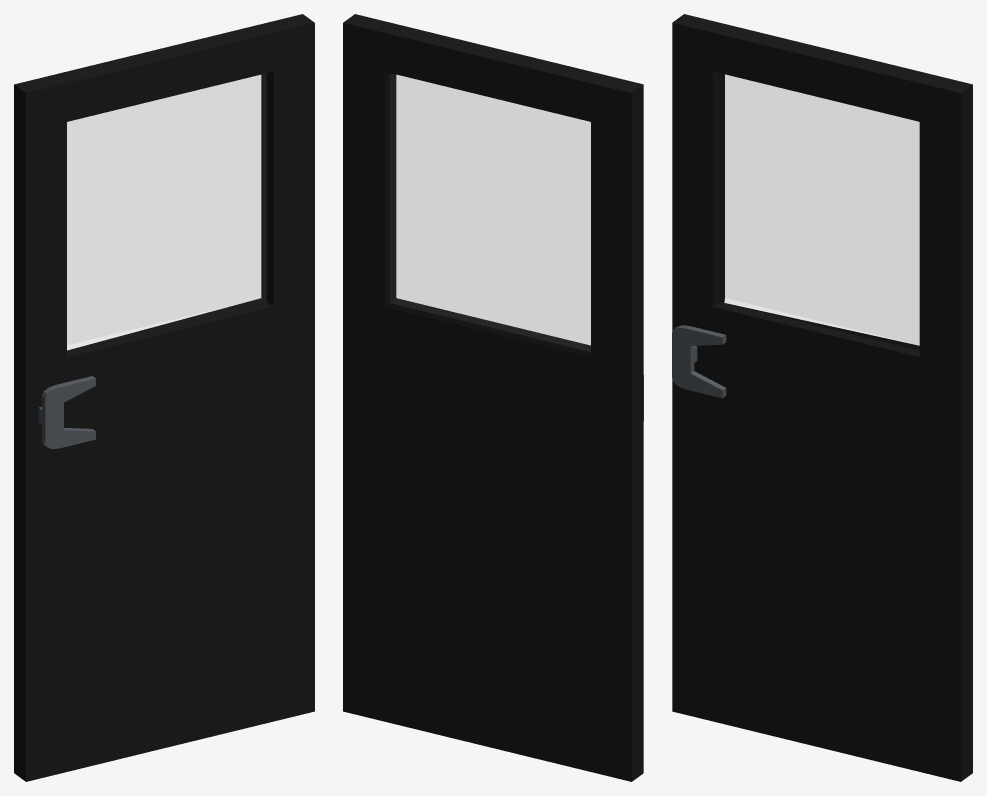
The model's file is DoorsV10.glb.
The picture shows the model from 3 angles, left to right: view 1: azimuth 30°, elevation 25°; view 2: azimuth 150°, elevation 25°; view 3: azimuth 330°, elevation 25°; orthographic projection.
Parts seen in each view (by area): view 1: FrontDoorL.053, DoorHandle.001; view 2: FrontDoorL.053; view 3: FrontDoorL.053, DoorHandle.001.
Part boxes in pixels (x1,y1,x2,y2): FrontDoorL.053: (14, 14, 314, 781); DoorHandle.001: (38, 376, 95, 448); FrontDoorL.053: (343, 14, 643, 781); FrontDoorL.053: (672, 14, 972, 781); DoorHandle.001: (672, 325, 726, 398).
Bounding box in the file's own units: 0.9358 × 2.13 × 0.1219.
3 materials, 1 textured.
